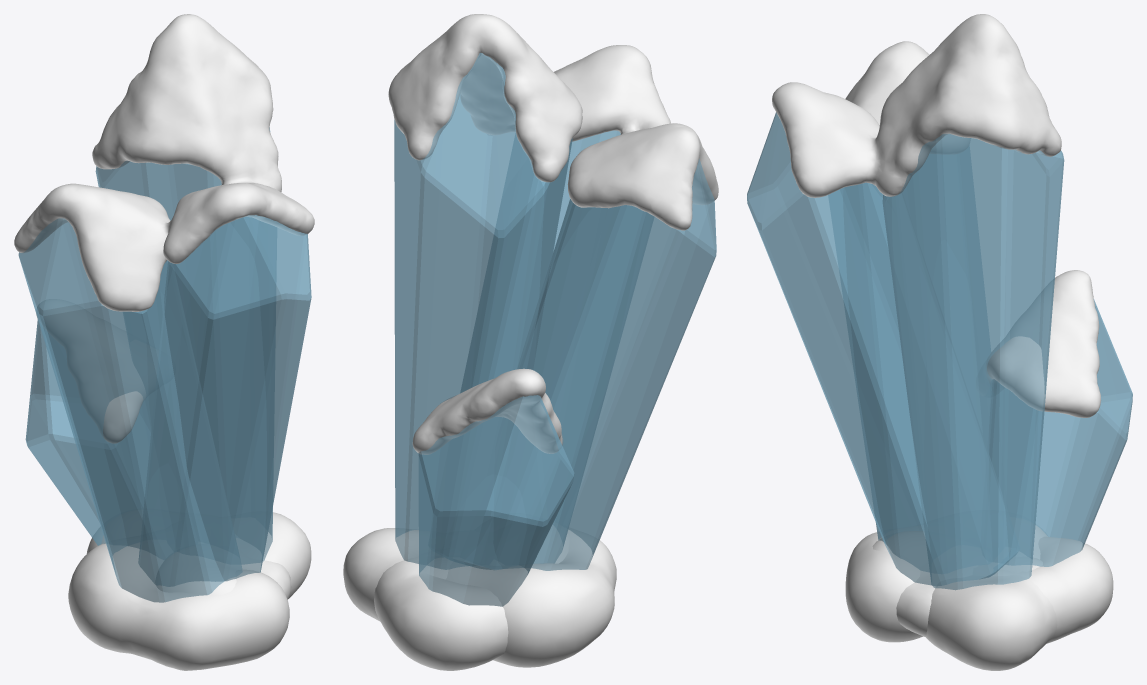
File: icicle .fbx
The picture shows the model from 3 angles, left to right: view 1: azimuth 30°, elevation 25°; view 2: azimuth 150°, elevation 25°; view 3: azimuth 270°, elevation 25°; orthographic projection. The views are drawn at different scales.
Visible parts, largest first — view 1: Cylinder.001, SnowBall.001, SnowBall.005, SnowBall.004, SnowBall.003; view 2: Cylinder.001, SnowBall.001, SnowBall.005, SnowBall.002, SnowBall.003, SnowBall.004; view 3: Cylinder.001, SnowBall.001, SnowBall.003, SnowBall.002, SnowBall.005, SnowBall.004.
Boxes of the visible parts, x1,y1,x2,y2 form: Cylinder.001: (18, 127, 311, 602); SnowBall.001: (14, 14, 314, 443); SnowBall.005: (68, 543, 289, 670); SnowBall.004: (156, 550, 291, 599); SnowBall.003: (236, 512, 311, 598); Cylinder.001: (394, 53, 716, 606); SnowBall.001: (388, 14, 718, 454); SnowBall.005: (446, 528, 616, 667); SnowBall.002: (374, 556, 508, 670); SnowBall.003: (343, 528, 452, 621); SnowBall.004: (534, 525, 569, 563); Cylinder.001: (747, 112, 1132, 590); SnowBall.001: (772, 14, 1101, 417); SnowBall.003: (926, 557, 1057, 670); SnowBall.002: (973, 537, 1113, 643); SnowBall.005: (845, 525, 1047, 642); SnowBall.004: (872, 531, 976, 636).
Bounding box in the file's own units: 156 × 293 × 166.
